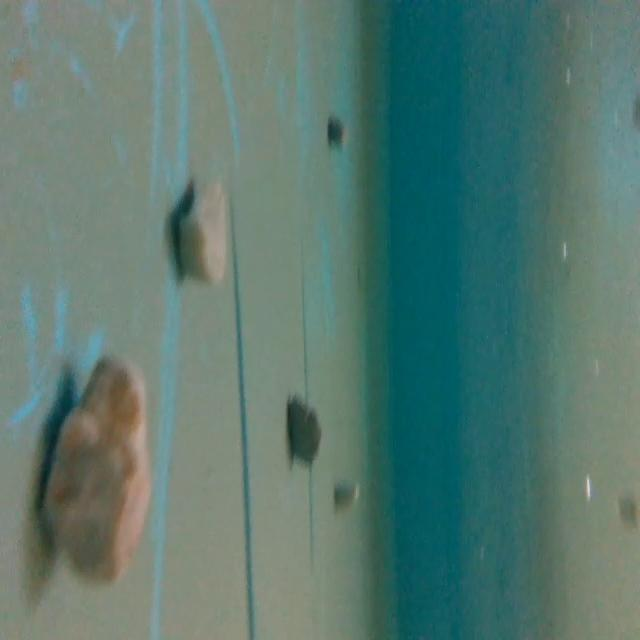rock: (37, 356, 162, 590), (170, 166, 236, 289)
